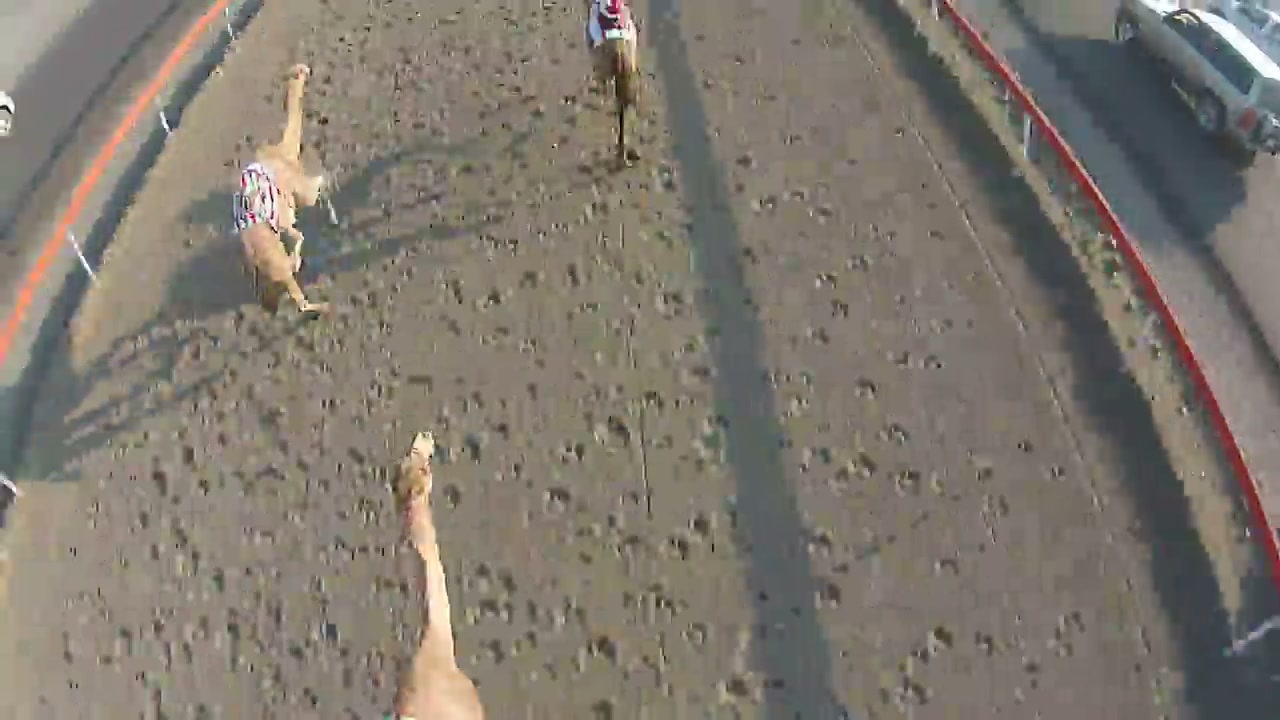animal_footprint: (451, 82, 824, 689)
